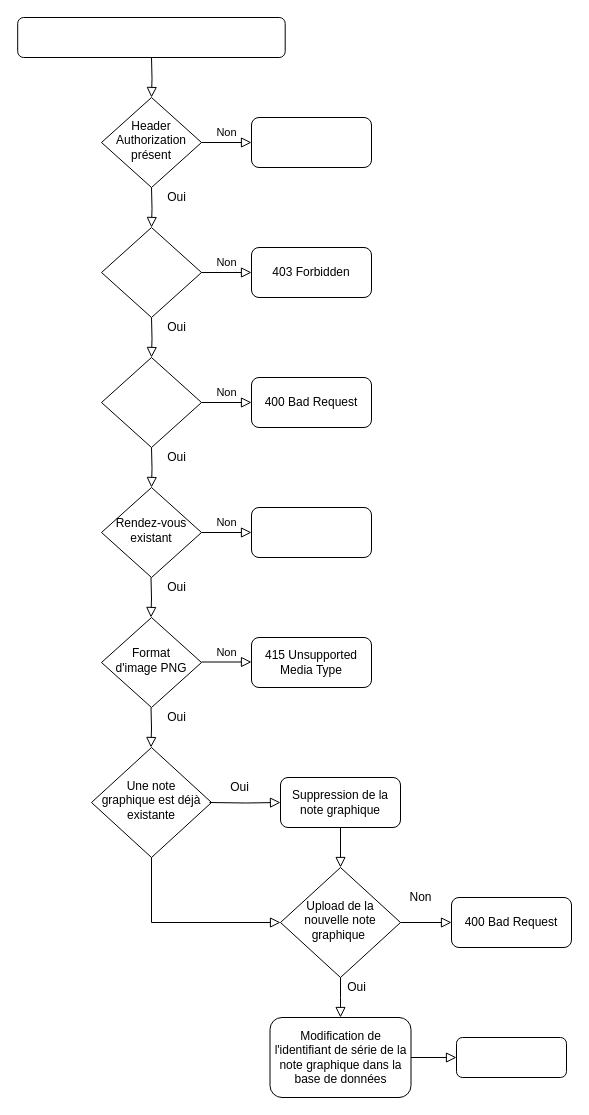
Some shapes in this 589 by 1115 pixel diagram are drawn without their labels. Here are the shapes that lost their labels. From the top down, the box of each, then its label:
(17, 16, 285, 58): POST api/v1/appoitments/uploadNoteGraphical
(250, 116, 372, 168): 401 Unauthorized
(100, 226, 202, 318): Utilisateur administrateur
(100, 356, 202, 448): Validité des champs
(250, 506, 372, 558): 404 Not Found
(456, 1036, 566, 1078): 200 OK
